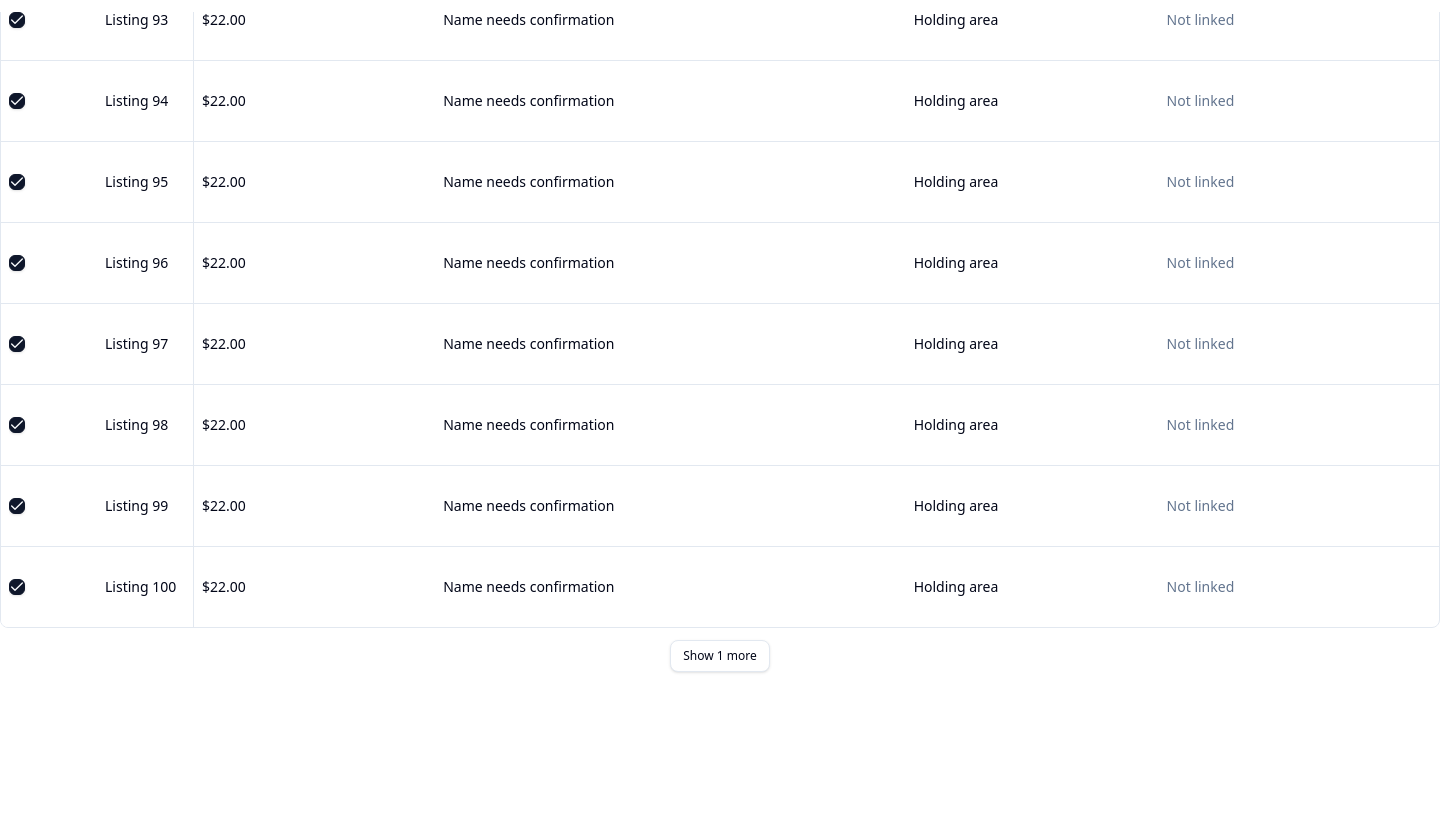
Test: DashboardImportTable › appends the next rows with Show more
(page scrolled)
Click the button "Show 1 more": (720, 656) 670,640 -> 770,672
(page scrolled)
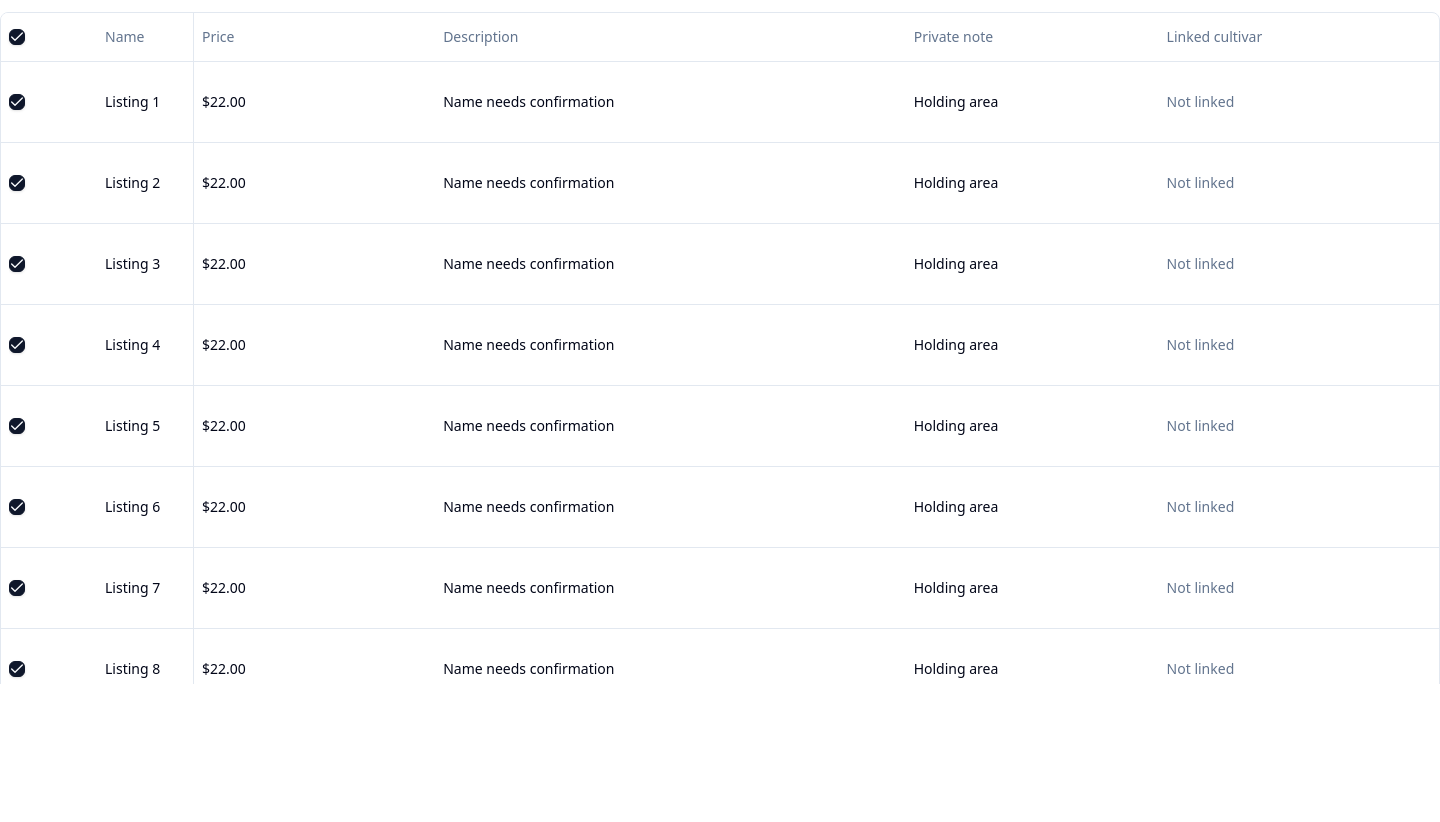
Result: the text "Listing 1" is shown at 105,92 -> 160,112
Result: the button "Show 1 more" is gone
